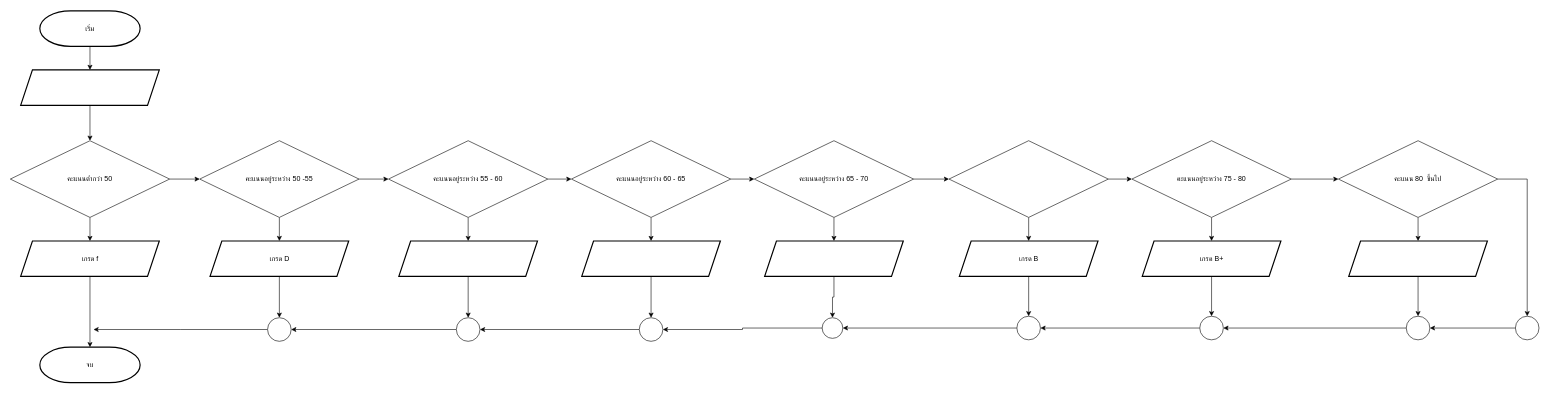
Image size: 1549x393. Some labels were removed from this diagram. The box of each missing label's shape, as (x1, y1, x2, y2) in pixels:
คะแนนอยู่ระหว่าง 70 - 75: (948, 140, 1108, 217)
รับค่าคะแนนนำมาคิดเกรด: (20, 69, 160, 106)
เกรด A: (1348, 240, 1488, 277)
เกรด C: (581, 240, 721, 277)
เกรด C+: (764, 240, 904, 277)
เกรด D+: (398, 240, 538, 277)
